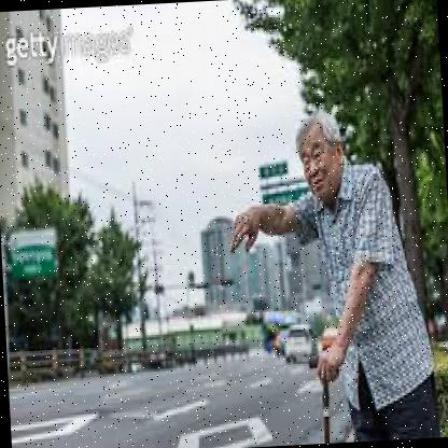silver: (223, 105, 441, 446)
